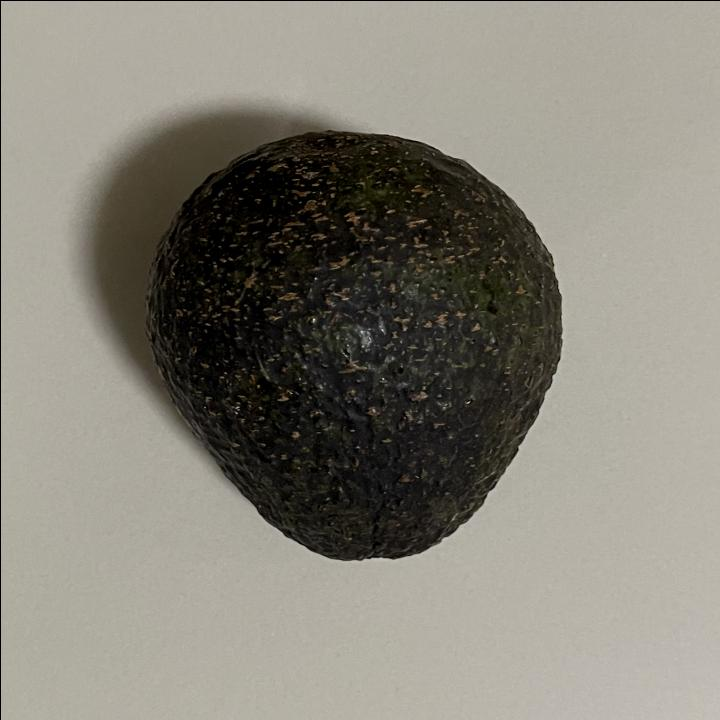Level2: (136, 127, 570, 572)
